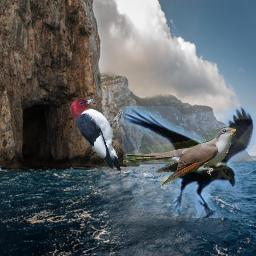Crow: (121, 106, 256, 218)
Cuckoo: (123, 127, 236, 185)
Woodpecker: (70, 97, 126, 171)
